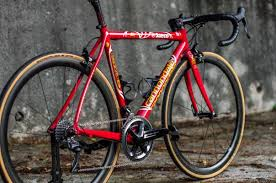bicycle: (4, 1, 249, 179)
